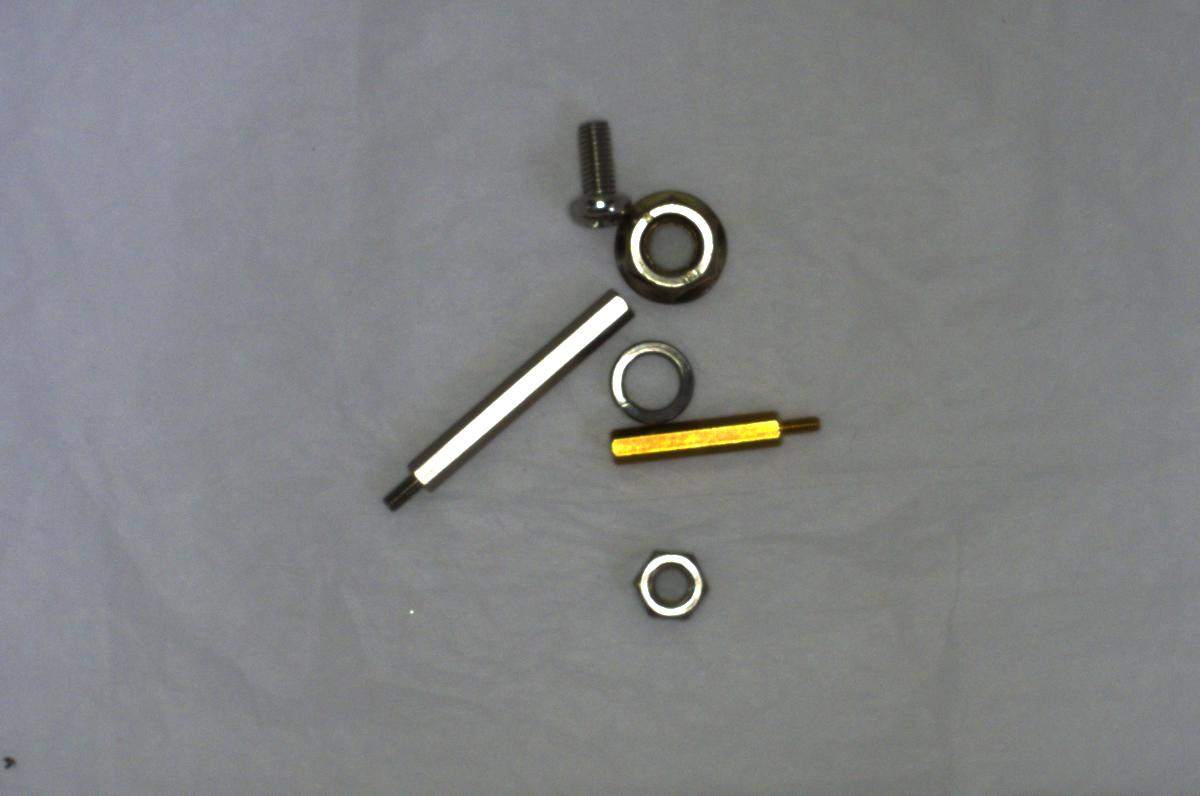Flange nut: (607, 183, 733, 312)
Hexagon nut: (628, 540, 720, 628)
Hexagon pillar: (600, 413, 827, 463)
Hexagonal steel column: (370, 286, 639, 513)
Round head screw: (560, 114, 631, 235)
Spring washer: (607, 334, 707, 429)
